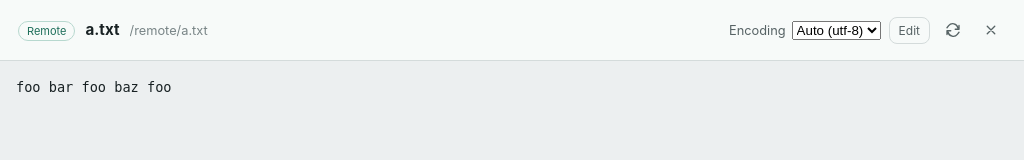
Test: PreviewWindow › current/total・active 移動・wrap・Enter/Shift+Enter
The width and height of the screenshot is (1024, 160).
Check: the text named "File contents" is shown, box x1=16 y1=79 x2=172 y2=95
Step 1. Press f
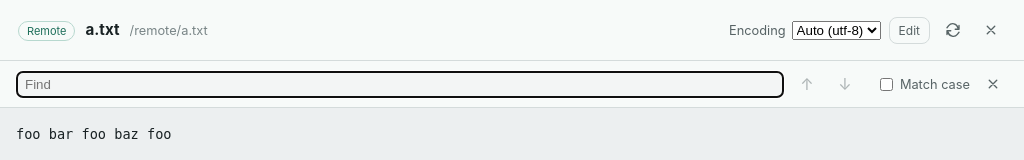
Step 2. Type "foo" into the search field labelled "Find" → x=400, y=84, box x1=16 y1=70 x2=784 y2=98
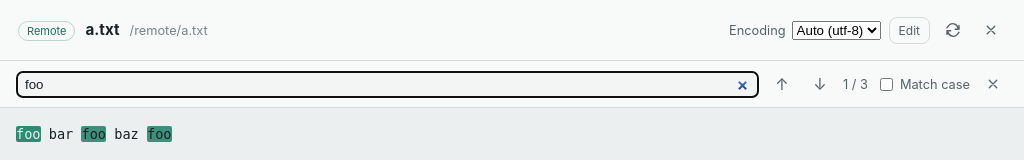
Check: the text "1 / 3" is shown, box x1=843 y1=76 x2=868 y2=92
Step 3. Press Enter in the search field named "Find", box x1=16 y1=70 x2=759 y2=98
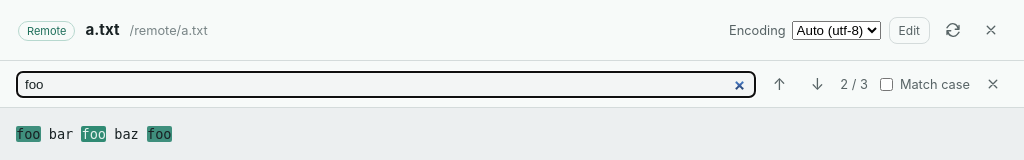
Check: the text "2 / 3" is shown, box x1=840 y1=76 x2=868 y2=92
Step 4. Press Enter in the search field named "Find", box x1=16 y1=70 x2=756 y2=98
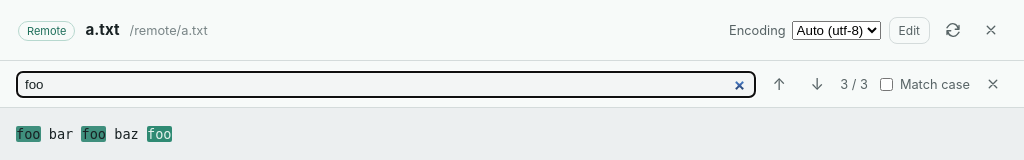
Check: the text "3 / 3" is shown, box x1=840 y1=76 x2=868 y2=92
Step 5. Press Enter in the search field named "Find", box x1=16 y1=70 x2=756 y2=98
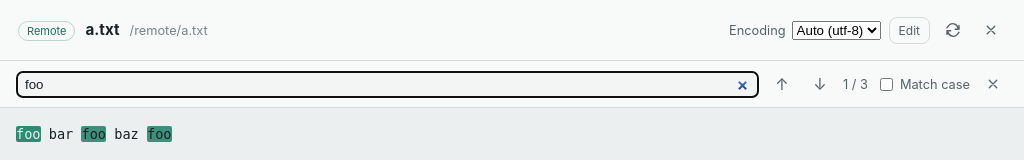
Check: the text "1 / 3" is shown, box x1=843 y1=76 x2=868 y2=92
Step 6. Press Enter in the search field named "Find", box x1=16 y1=70 x2=759 y2=98
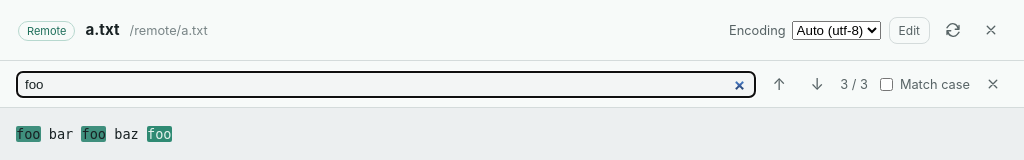
Check: the text "3 / 3" is shown, box x1=840 y1=76 x2=868 y2=92
